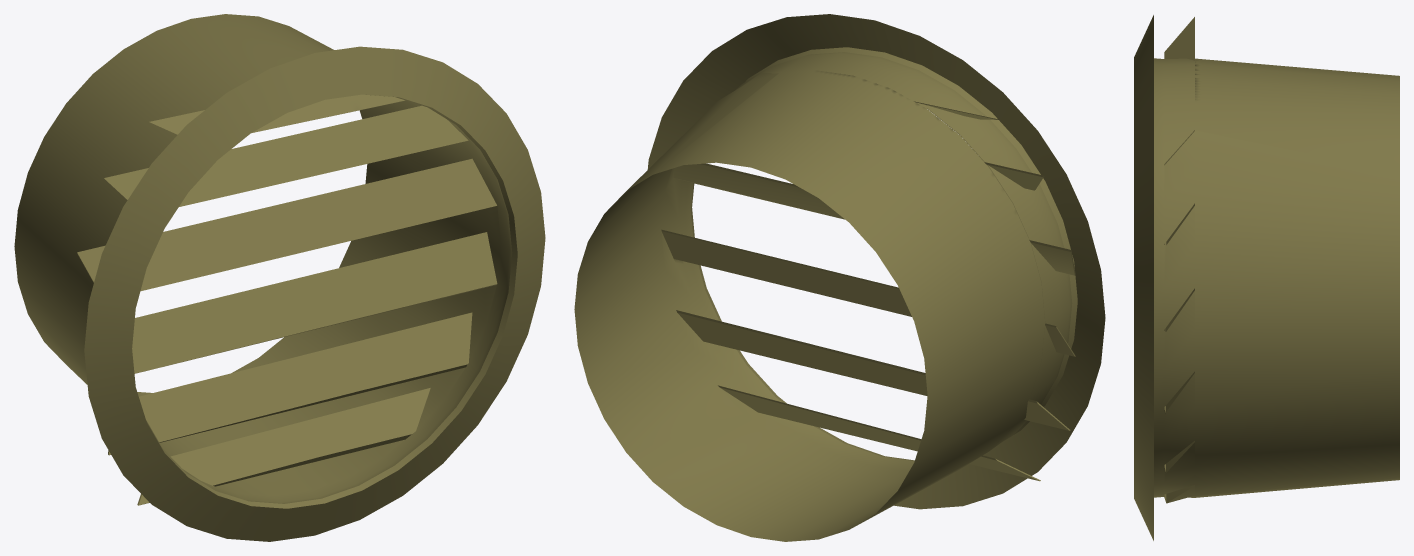
The model's file is Ventilation.fbx.
The picture shows the model from 3 angles, left to right: view 1: azimuth 30°, elevation 25°; view 2: azimuth 150°, elevation 25°; view 3: azimuth 270°, elevation 25°; orthographic projection.
Parts seen in each view (by area): view 1: export ventilation; view 2: export ventilation; view 3: export ventilation.
Boxes of the visible parts, left/top/right/bottom form: export ventilation: left=14, top=14, right=545, bottom=541; export ventilation: left=574, top=14, right=1105, bottom=541; export ventilation: left=1134, top=15, right=1399, bottom=540.
Size of the model in its own units: 85.88 by 85.88 by 43.19.
